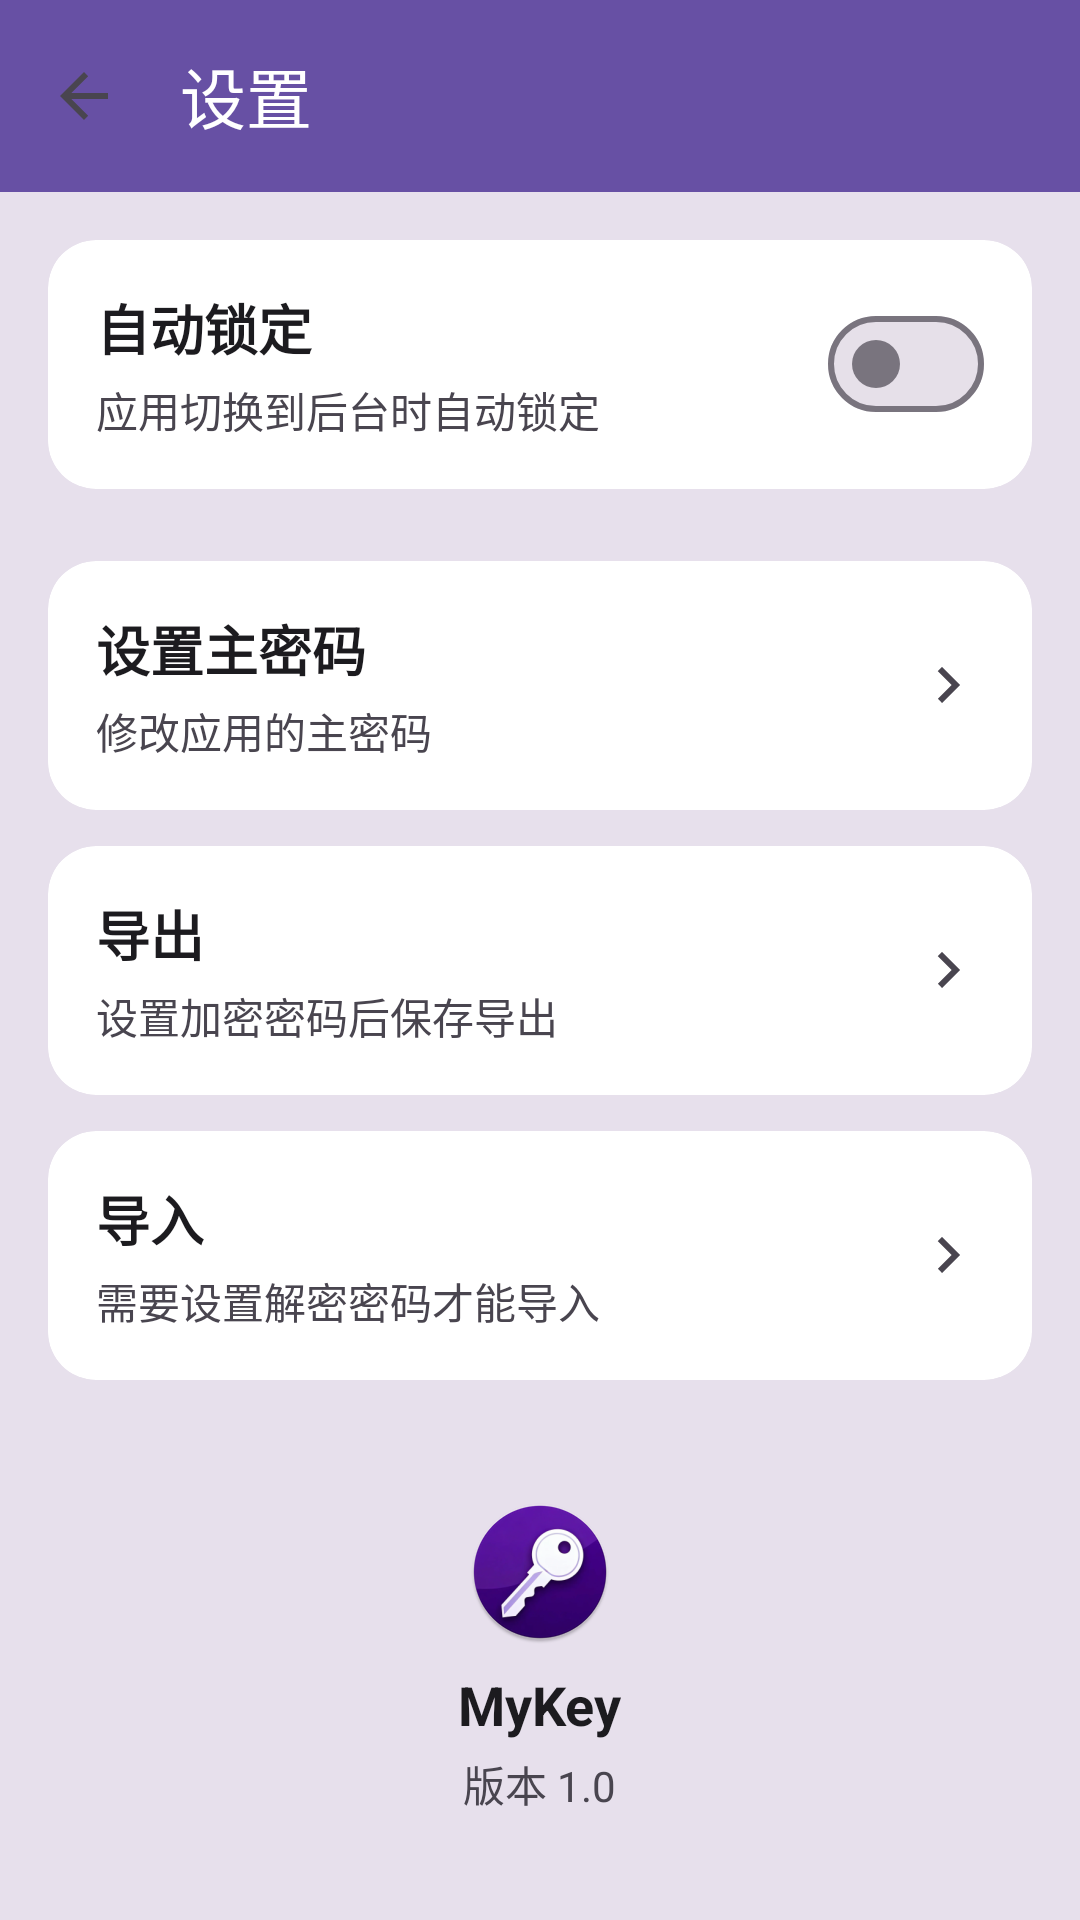

Icons on this 1080w x 1920h Android screen, each with its box as (x1, y1, x2, y2):
arrow forward: (938, 667, 960, 703), (938, 952, 960, 988), (938, 1237, 960, 1273)
